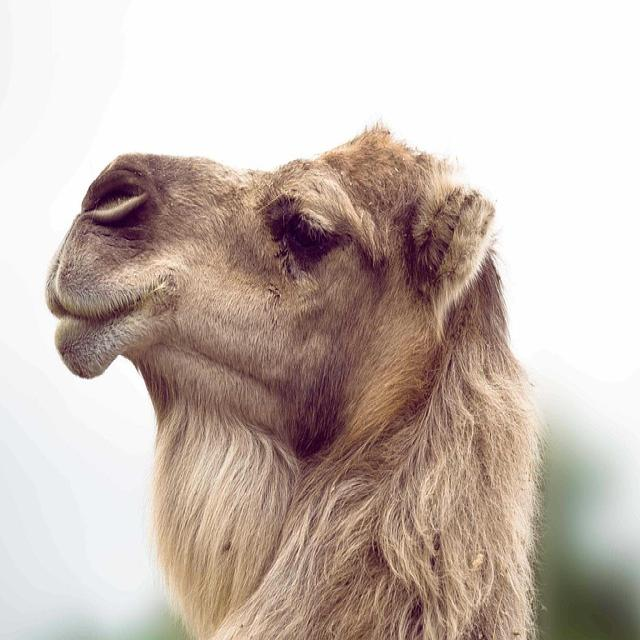Herbivorous: (45, 124, 547, 640)
